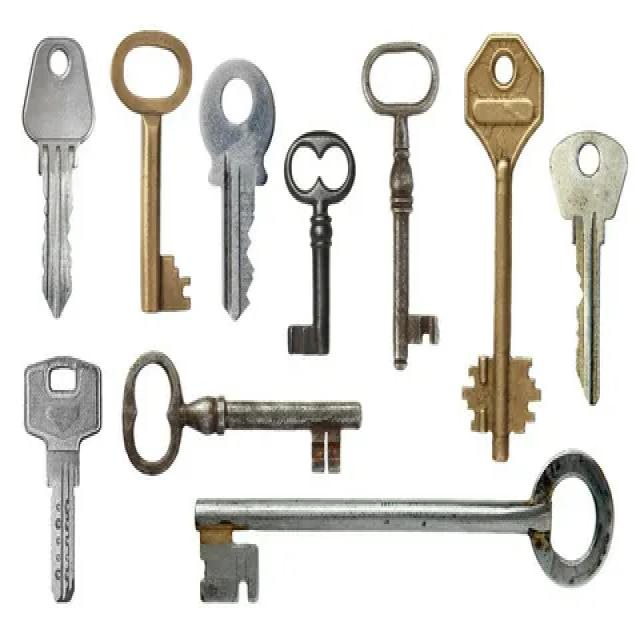key: (188, 458, 621, 618), (352, 20, 462, 384), (106, 24, 204, 318)
